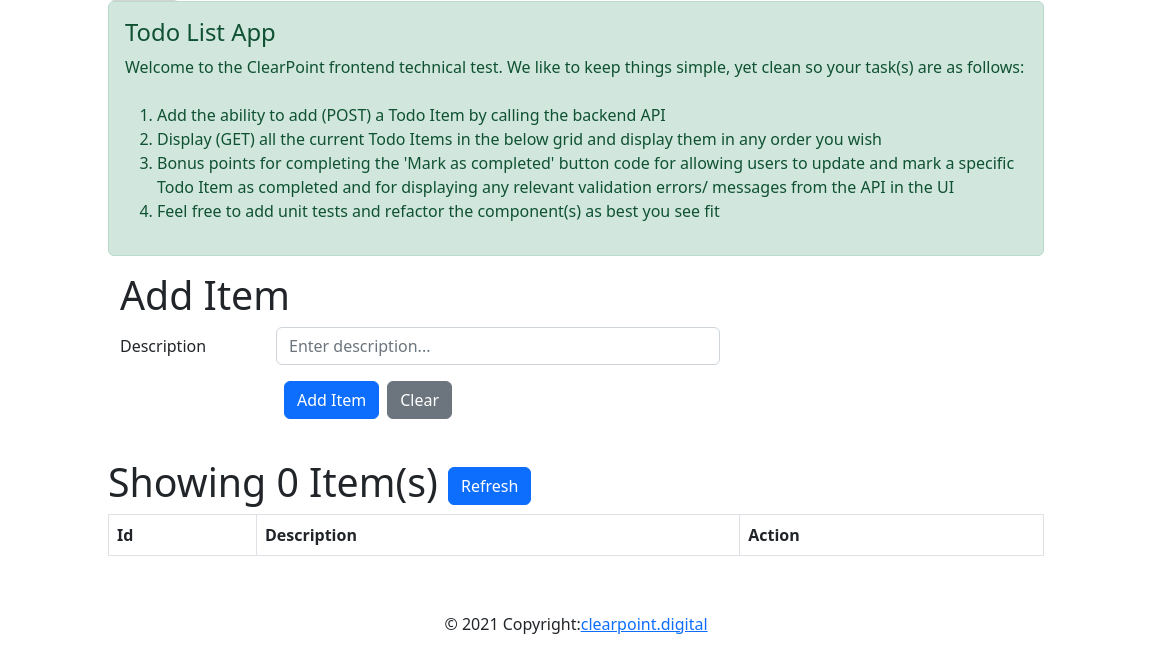
Test case: adding should render all active tasks
This screenshot has width=1152, height=649.
Click the button "Add Item". click: {"x": 332, "y": 400}
box: x1=284 y1=381 x2=379 y2=419
(page scrolled)
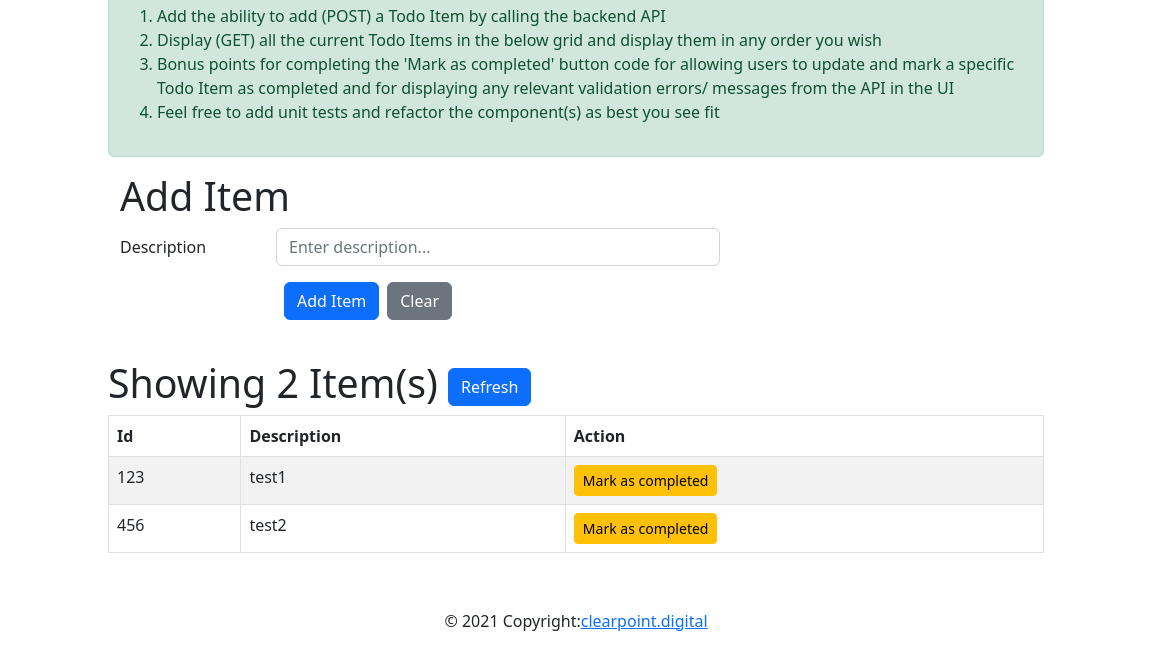
expect the text "test1" is shown: met, box x1=241 y1=456 x2=565 y2=504
expect the text "test2" is shown: met, box x1=241 y1=504 x2=565 y2=552
